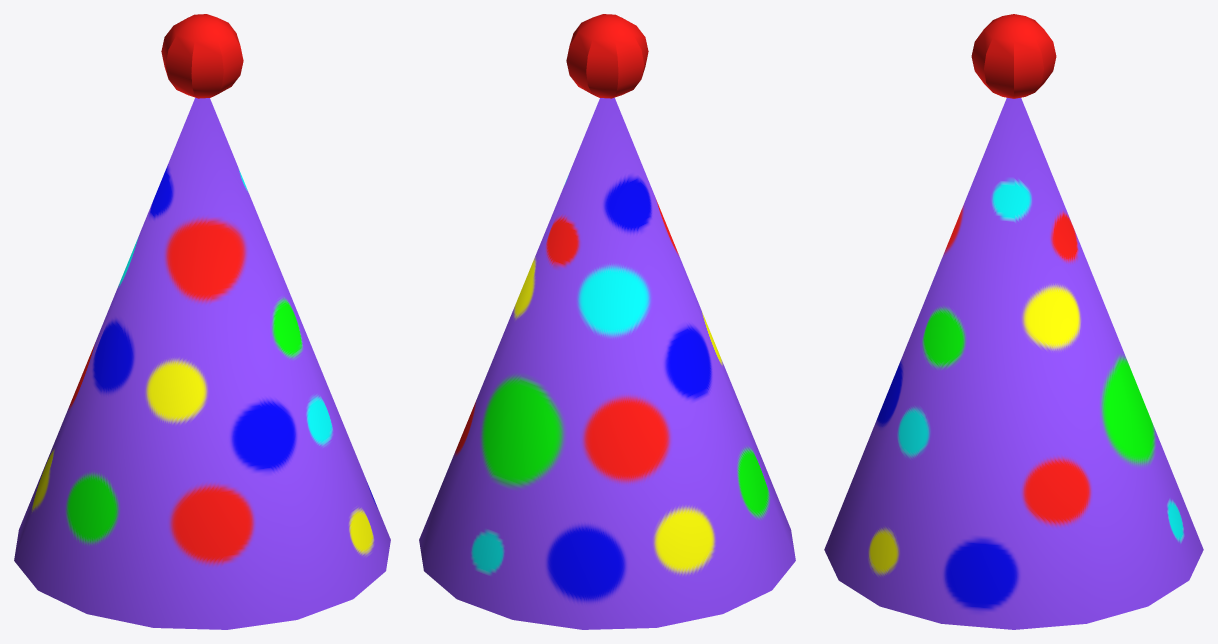
Rendered from mdlPartyHat.fbx.
3 views of the same model, side by side, from view 1: azimuth 30°, elevation 25°; view 2: azimuth 150°, elevation 25°; view 3: azimuth 270°, elevation 25° (orthographic).
Parts seen in each view (by area): view 1: Cone, Sphere; view 2: Cone, Sphere; view 3: Cone, Sphere.
Boxes of the visible parts, x1,y1,x2,y2 form: Cone: (14,97,390,629); Sphere: (161,14,243,98); Cone: (419,97,795,629); Sphere: (566,14,648,98); Cone: (824,97,1203,629); Sphere: (971,14,1056,98).
Size of the model in its own units: 2 by 3.09 by 2.
